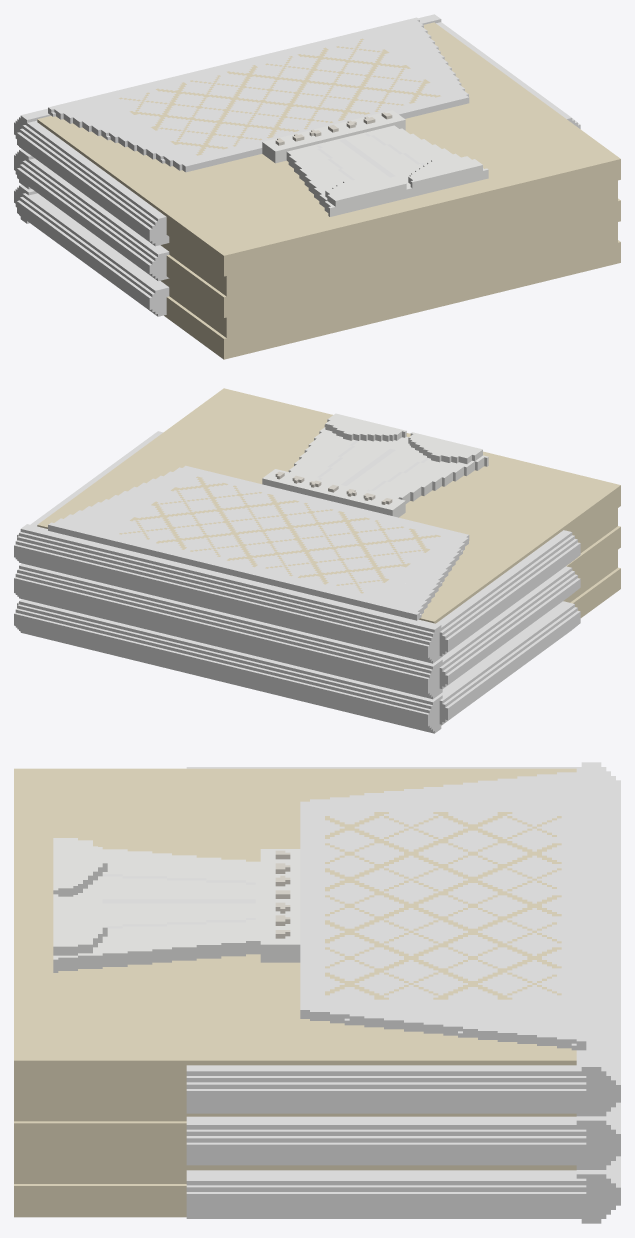
Rendered from dress_wedding.glb.
3 renders of one model, top to bottom at view 1: azimuth 30°, elevation 25°; view 2: azimuth 150°, elevation 25°; view 3: azimuth 270°, elevation 25°, orthographic. The views are drawn at different scales.
Parts seen in each view (by area): view 1: dress_wedding:compound; view 2: dress_wedding:compound; view 3: dress_wedding:compound.
Boxes of the visible parts, x1=… form: dress_wedding:compound: x1=14, y1=14, x2=620, y2=359; dress_wedding:compound: x1=14, y1=388, x2=620, y2=733; dress_wedding:compound: x1=14, y1=762, x2=620, y2=1223.
Size of the model in its own units: 0.608 by 0.16 by 0.492.
